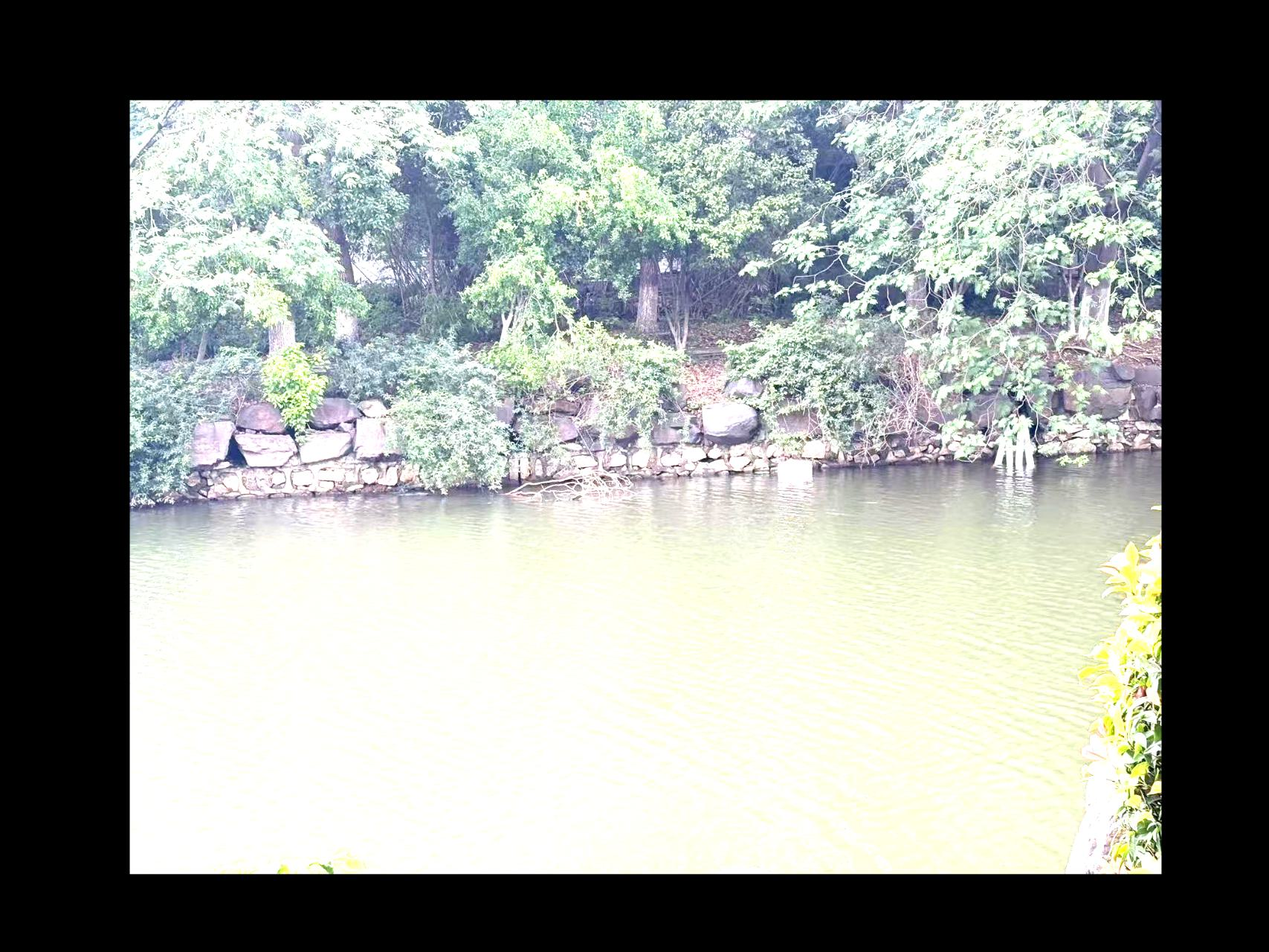Plastic wastes: (774, 457, 812, 484)
